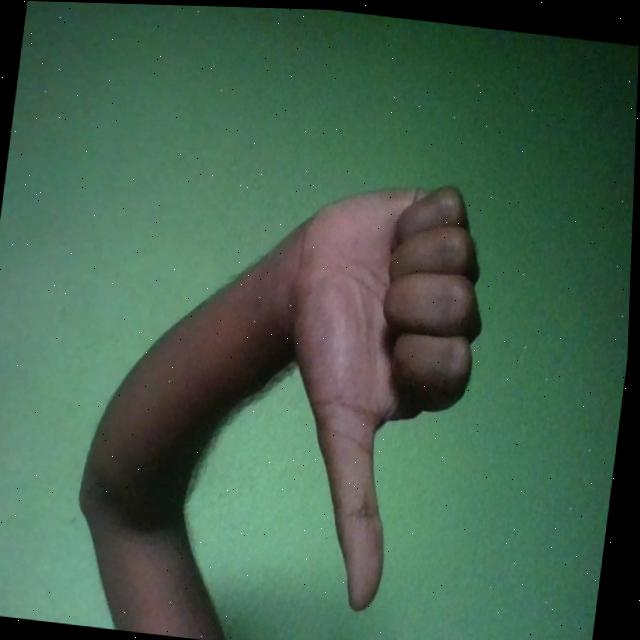Dislike: (248, 165, 500, 619)
